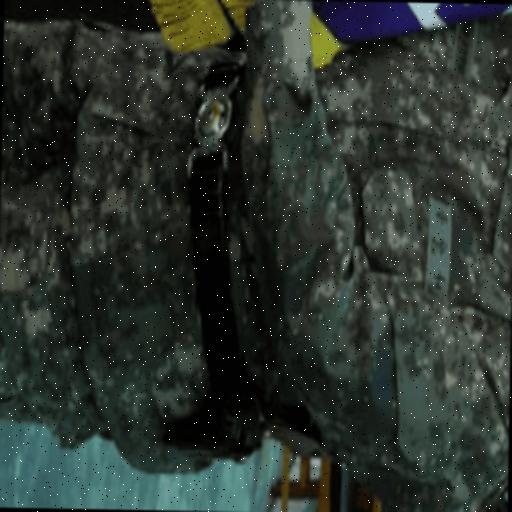korea army: (4, 28, 512, 490)
